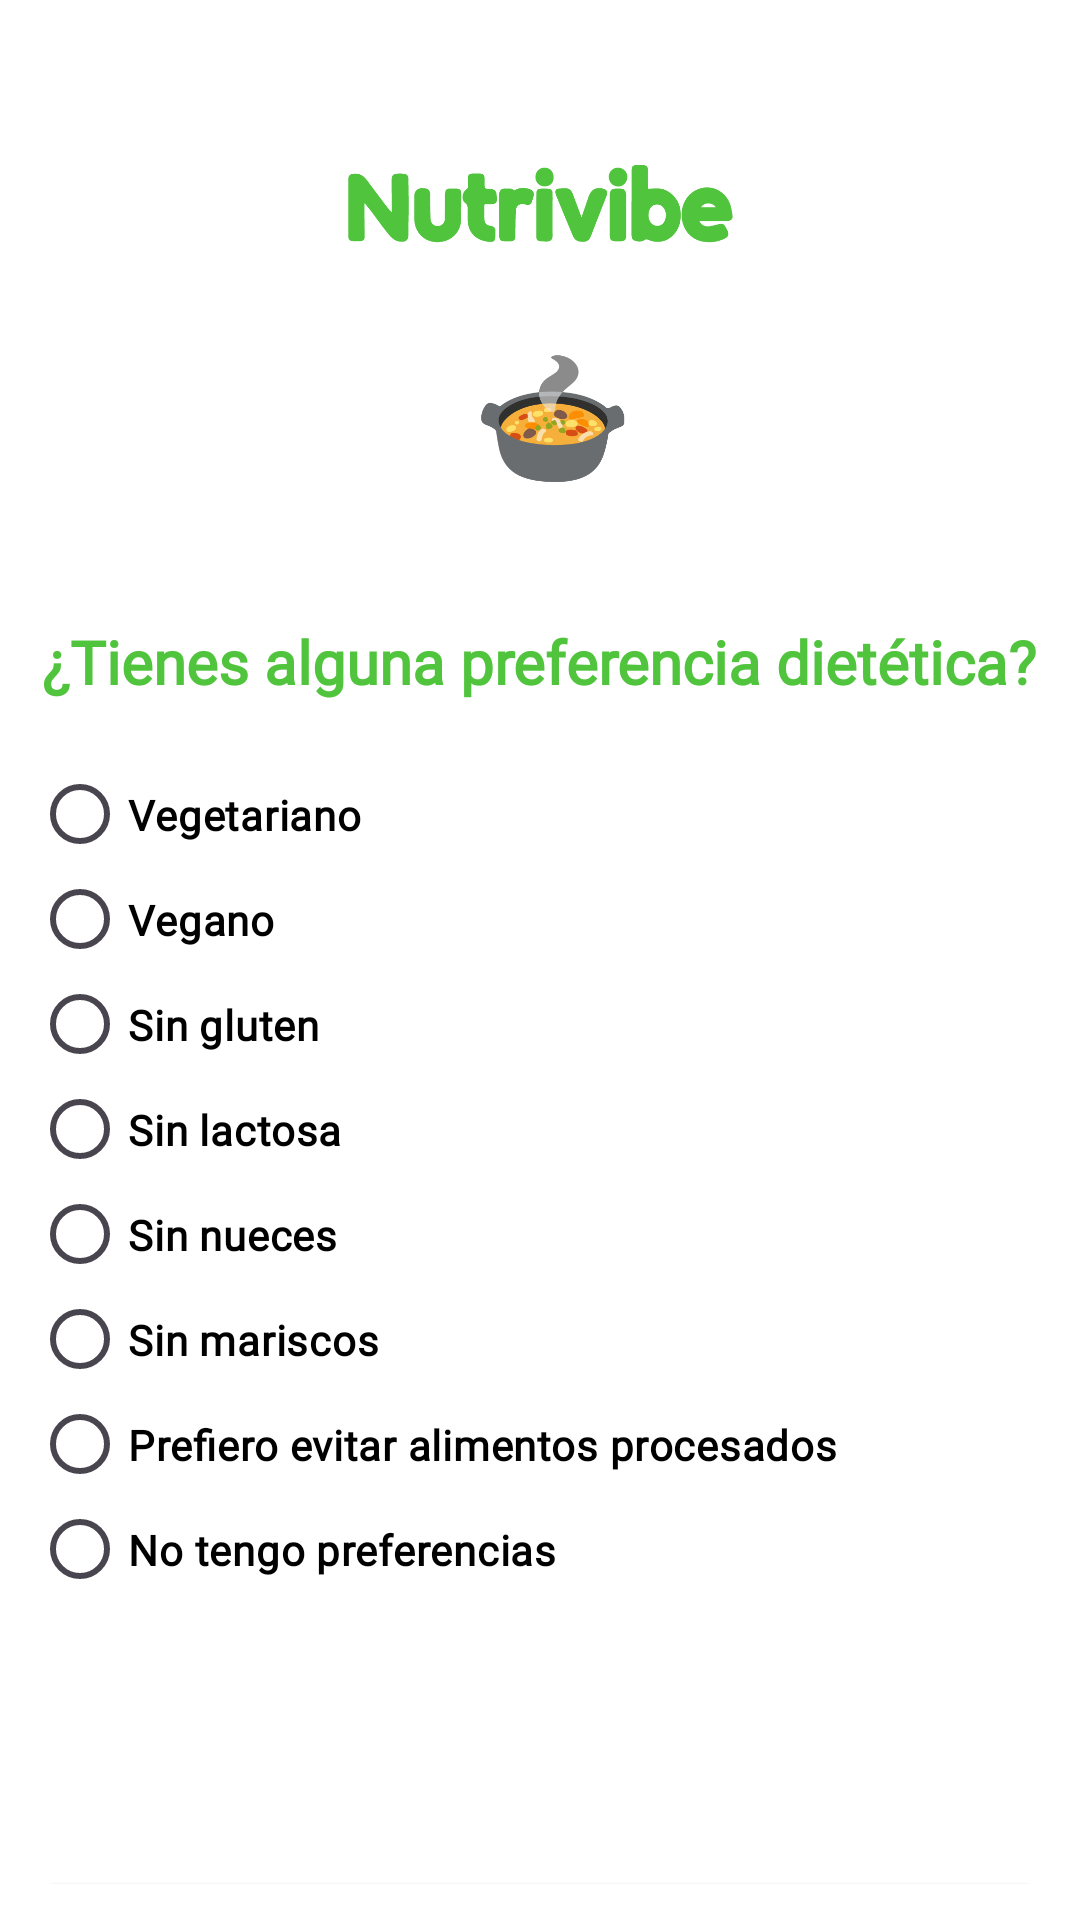

Named icons in this screenshot (1080px×1920px) and their centers, (x,y):
iconocomida: (553,418)
